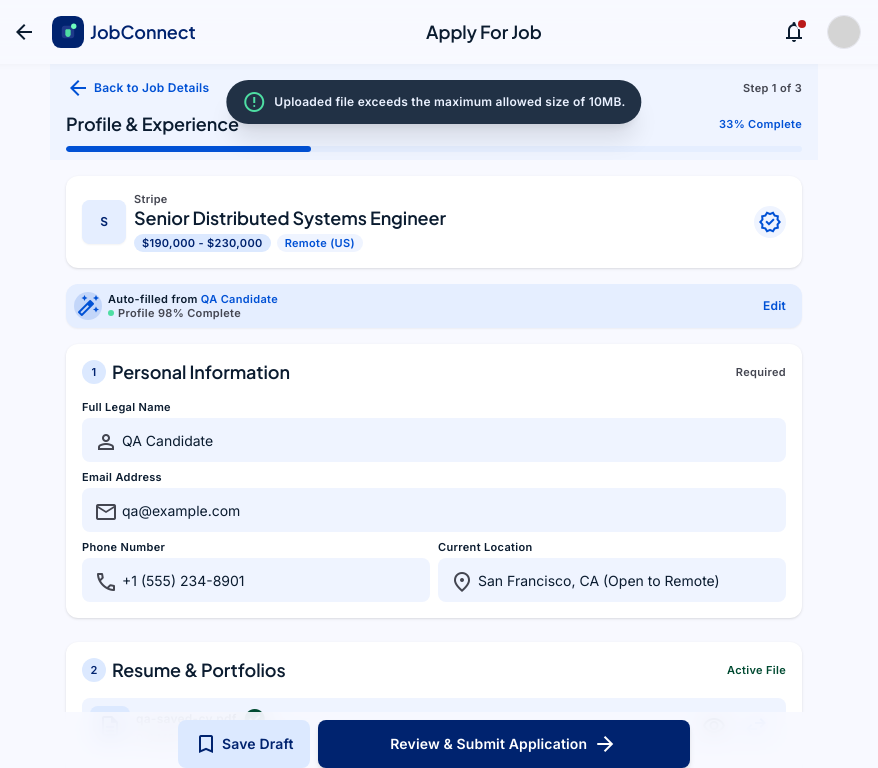
Test: Complete End-to-End QA UI Suite (Auth, OAuth, Search, Apply, My Applications) › 3. Job Application Module — Double-Click, Concurrent Lock, Unmount & Validation › surfaces resume upload size/format rejection and submission API errors inline without losing form state
The width and height of the screenshot is (878, 768).
Earlier steps of the test are not shown.
Expected: the text "Uploaded file exceeds the maximum allowed size of 10MB." is shown, [274,94,626,110]
Expected: the text "qa-saved-cv.pdf" is shown, [136,711,237,727]
Click the button "Review & Submit Application" at {"x": 504, "y": 744}, box [318,720,690,767]
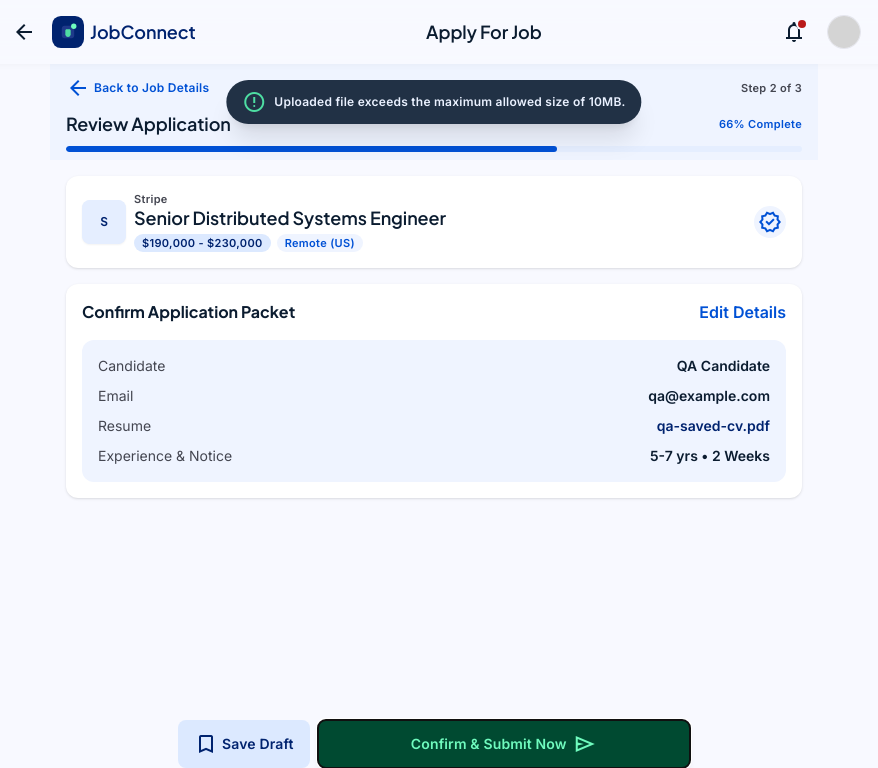
Click the button "Confirm & Submit Now" at {"x": 504, "y": 744}, box [318,720,690,767]
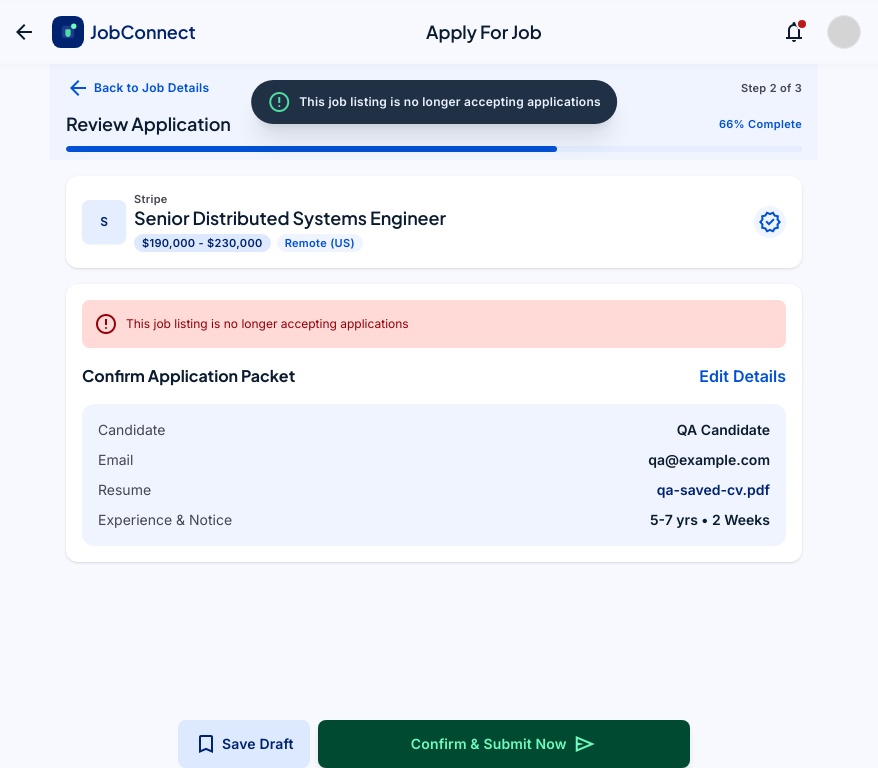
Expected: the message reads "This job listing is no longer accepting applications", [126,316,409,331]
